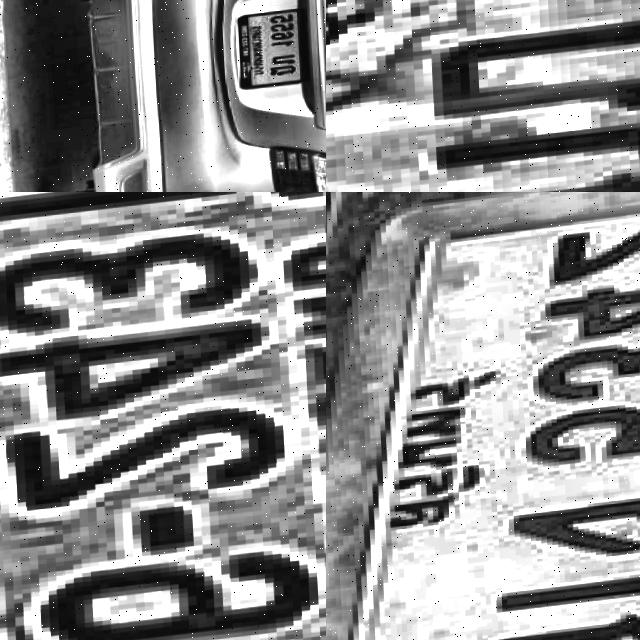license-plate: (0, 192, 326, 640), (326, 192, 640, 640), (326, 0, 640, 192), (227, 3, 316, 102)
